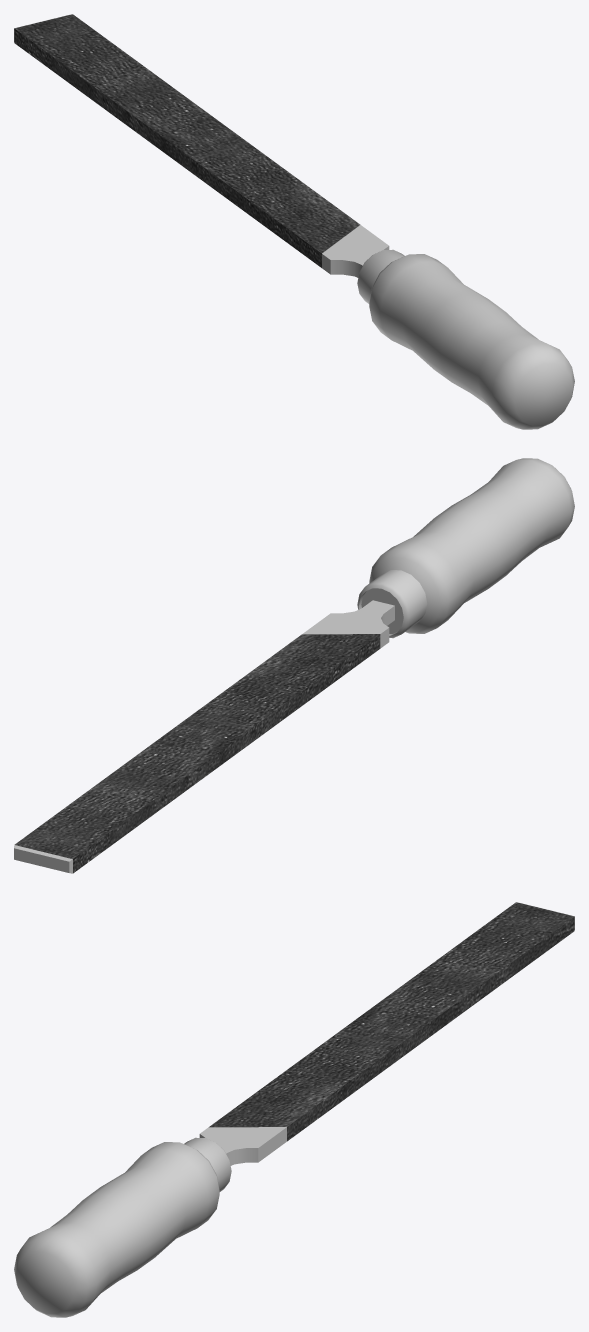
3 views of the same model, one above another, from view 1: azimuth 30°, elevation 25°; view 2: azimuth 150°, elevation 25°; view 3: azimuth 330°, elevation 25° (orthographic).
Parts seen in each view (by area): view 1: File; view 2: File; view 3: File.
Part boxes in pixels (left/top/right/bottom): File: left=14, top=14, right=574, bottom=429; File: left=14, top=458, right=574, bottom=873; File: left=14, top=902, right=574, bottom=1317.
Bounding box in the file's own units: 100 × 100 × 1096.
